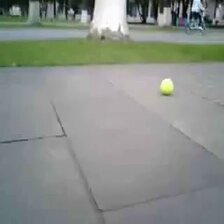tennis: (159, 79, 175, 96)
